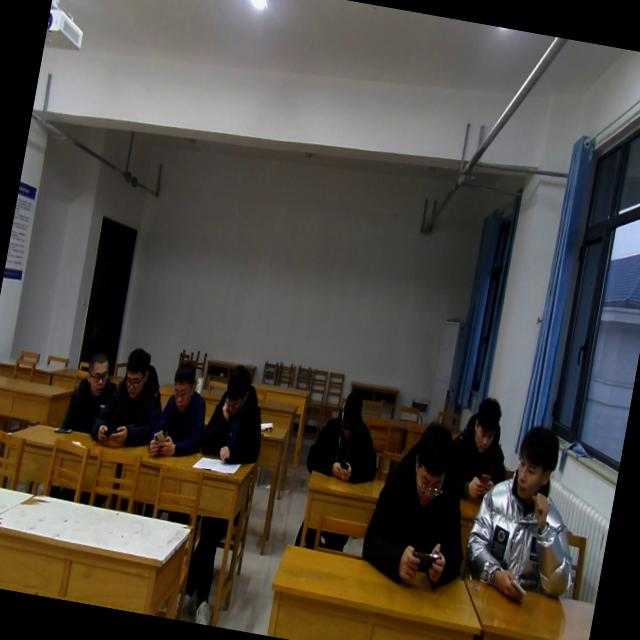down: (404, 412, 460, 509), (466, 394, 505, 459), (329, 382, 369, 441), (117, 342, 156, 402), (164, 356, 202, 416), (217, 360, 255, 420)
sit: (456, 417, 598, 613), (356, 411, 486, 597), (302, 384, 392, 488), (439, 392, 521, 506), (90, 342, 172, 453), (196, 360, 274, 469), (145, 357, 216, 467), (60, 344, 126, 438)
